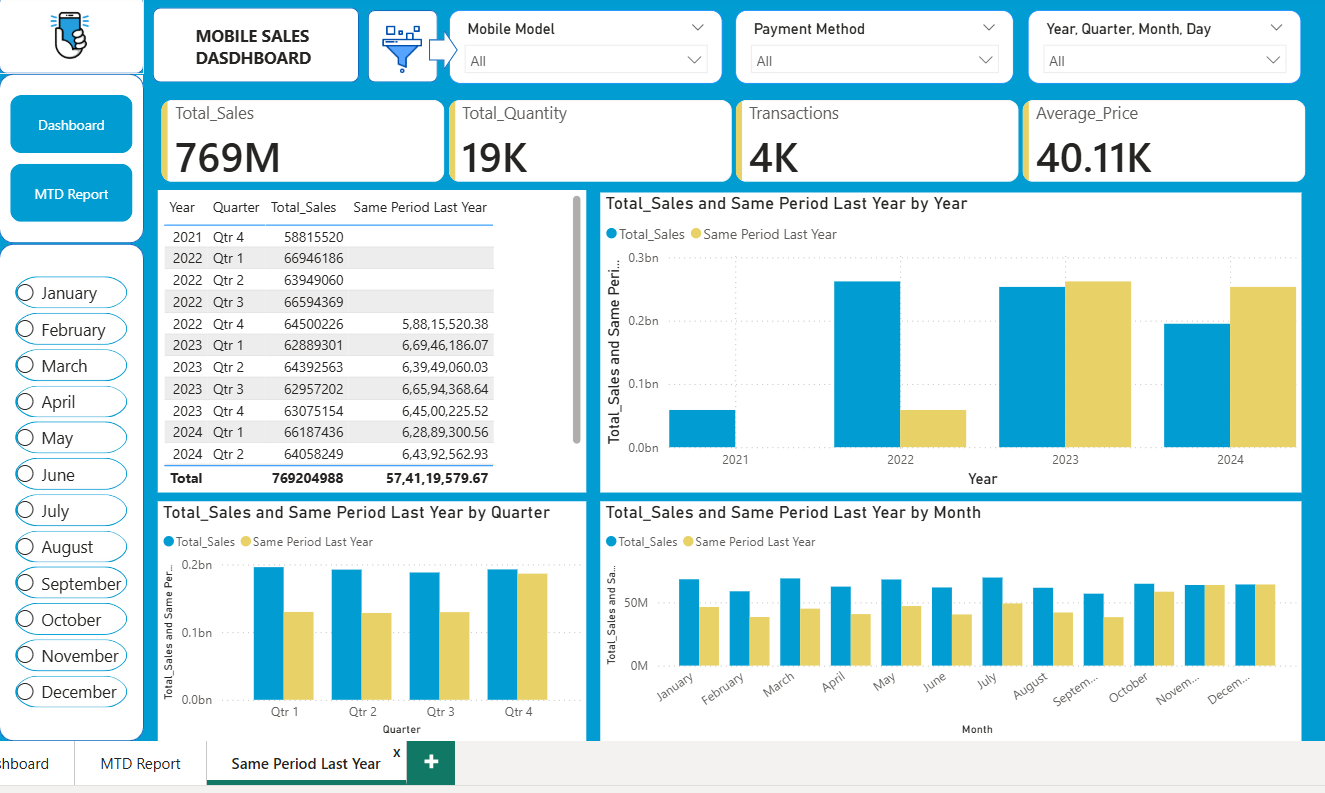

The dashboard page shown, as its layout file describes it:
{"tool":"powerbi","page":{"name":"Same Period Last Year","canvas":[1280,720],"ordinal":2},"visuals":[{"type":"shape","box":[0,0,139.9,76],"z":0},{"type":"shape","box":[0,76.6,139.9,163.7],"z":1000},{"type":"shape","box":[0,240.1,139.9,480.2],"z":2000},{"type":"listSlicer","fields":{"Values":["Custom_Calendar.Date_.Variation.Date Hierarchy.Month"]},"box":[10.9,266.6,118.2,427.1],"z":3000},{"type":"image","box":[24.1,0,90.5,76],"z":4000},{"type":"cardVisual","fields":{"Data":["Sales_Data.Total_Sales","Sales_Data.Total_Quantity","Sales_Data.Transactions","Sales_Data.Average_Price"]},"box":[139.9,84.5,1140.1,113.4],"z":4003,"group":"g1"},{"type":"group","id":"g1","title":"Group 1","box":[139.9,84.5,1140.1,113.4],"z":5000},{"type":"slicer","fields":{"Values":["Sales_Data.Mobile Model"]},"box":[434.3,14.5,264.2,71.2],"z":6000},{"type":"slicer","fields":{"Values":["Sales_Data.Payment Method"]},"box":[710.6,14.5,269,71.2],"z":7000},{"type":"shape","box":[355.9,14.5,67.6,70],"z":8000},{"type":"image","box":[365.6,29,47.1,47.1],"z":9000},{"type":"shape","box":[415,32.6,27.7,41],"z":10000},{"type":"shape","box":[148.4,12.1,199.1,72.4],"z":11000},{"type":"textbox","box":[184.6,22.9,153.2,54.3],"z":12000},{"type":"tableEx","fields":{"Values":["Custom_Calendar.Date_.Variation.Date Hierarchy.Year","Custom_Calendar.Date_.Variation.Date Hierarchy.Quarter","Sales_Data.Total_Sales","Sales_Data.Same Period Last Year"]},"box":[153.2,188.2,413.8,292],"z":13000},{"type":"slicer","fields":{"Values":["Custom_Calendar.Date_.Variation.Date Hierarchy.Year","Custom_Calendar.Date_.Variation.Date Hierarchy.Quarter","Custom_Calendar.Date_.Variation.Date Hierarchy.Month","Custom_Calendar.Date_.Variation.Date Hierarchy.Day"]},"box":[992.9,14.5,264.2,71.2],"z":14000},{"type":"clusteredColumnChart","fields":{"Category":["Custom_Calendar.Date_.Variation.Date Hierarchy.Year","Custom_Calendar.Date_.Variation.Date Hierarchy.Quarter"],"Y":["Sales_Data.Total_Sales","Sales_Data.Same Period Last Year"]},"box":[580.3,190.6,676.8,289.5],"z":15000},{"type":"clusteredColumnChart","fields":{"Category":["Custom_Calendar.Date_.Variation.Date Hierarchy.Year","Custom_Calendar.Date_.Variation.Date Hierarchy.Quarter"],"Y":["Sales_Data.Total_Sales","Sales_Data.Same Period Last Year"]},"box":[153.2,488.6,413.8,231.6],"z":16000},{"type":"clusteredColumnChart","fields":{"Y":["Sales_Data.Total_Sales","Sales_Data.Same Period Last Year"],"Category":["Custom_Calendar.Date_.Variation.Date Hierarchy.Month"]},"box":[580.3,488.6,676.8,231.6],"z":17000},{"type":"pageNavigator","box":[10.9,96.5,118.2,123.1],"z":18000}]}

Visuals, with their boxes on the page's 1280x720 design canvas (x1, y1, x2, y2). These are canvas units, not pixel positions in the 1325x793 screenshot, which may show the page scaled, cropped or inside an application window:
shape: (0,0,140,76)
shape: (0,77,140,240)
shape: (0,240,140,720)
listSlicer - Custom_Calendar.Date_.Variation.Date Hierarchy.Month: (11,267,129,694)
image: (24,0,115,76)
cardVisual - Sales_Data.Total_Sales x Sales_Data.Total_Quantity: (140,84,1280,198)
"Group 1" group: (140,84,1280,198)
slicer - Sales_Data.Mobile Model: (434,14,698,86)
slicer - Sales_Data.Payment Method: (711,14,980,86)
shape: (356,14,424,84)
image: (366,29,413,76)
shape: (415,33,443,74)
shape: (148,12,348,84)
textbox: (185,23,338,77)
tableEx - Custom_Calendar.Date_.Variation.Date Hierarchy.Year x Custom_Calendar.Date_.Variation.Date Hierarchy.Quarter: (153,188,567,480)
slicer - Custom_Calendar.Date_.Variation.Date Hierarchy.Year x Custom_Calendar.Date_.Variation.Date Hierarchy.Quarter: (993,14,1257,86)
clusteredColumnChart - Custom_Calendar.Date_.Variation.Date Hierarchy.Year x Custom_Calendar.Date_.Variation.Date Hierarchy.Quarter: (580,191,1257,480)
clusteredColumnChart - Custom_Calendar.Date_.Variation.Date Hierarchy.Year x Custom_Calendar.Date_.Variation.Date Hierarchy.Quarter: (153,489,567,720)
clusteredColumnChart - Sales_Data.Total_Sales x Sales_Data.Same Period Last Year: (580,489,1257,720)
pageNavigator: (11,96,129,220)
